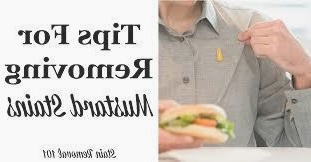mustard: (212, 45, 225, 64)
